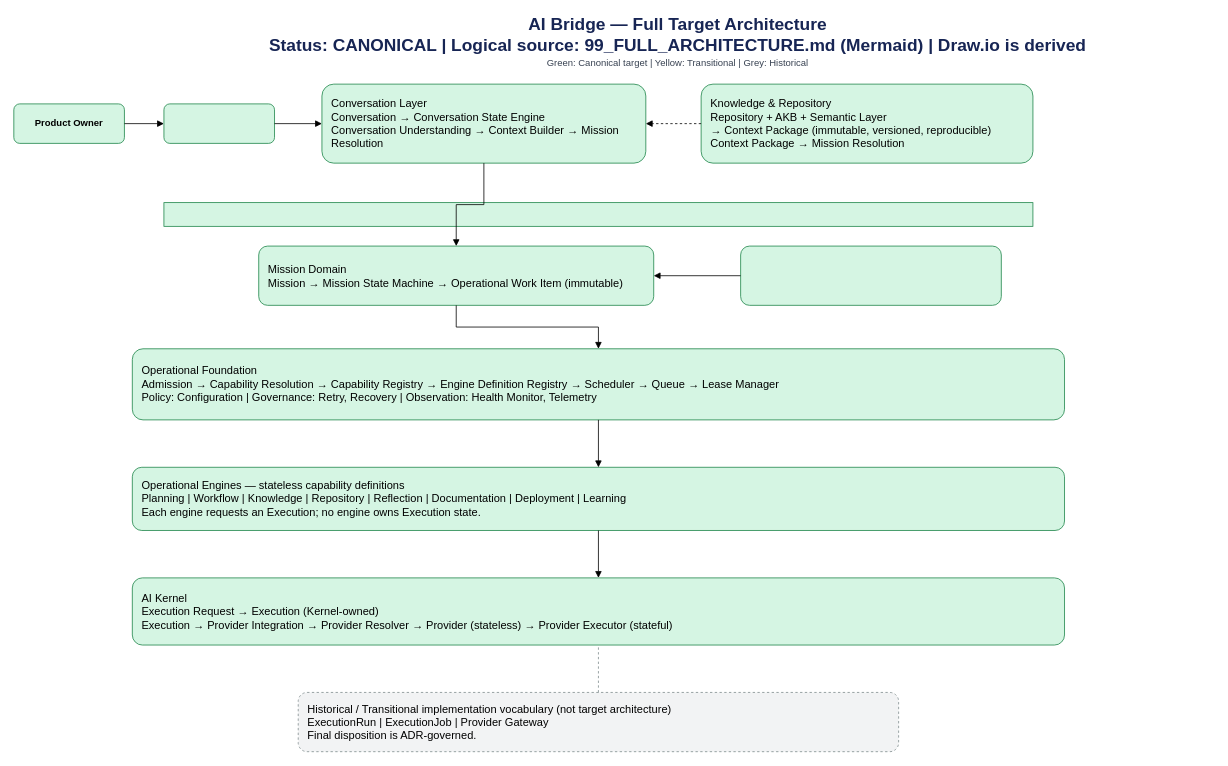
This 1228x766 diagram has some shape labels left out. Each missing label, with the centre of its shape:
API / MCP / Scheduler / Webhook / Automation converge directly on Mission intake: [870,275]
Factory Chat: [219,123]
RUNTIME BOUNDARY: [598,214]
